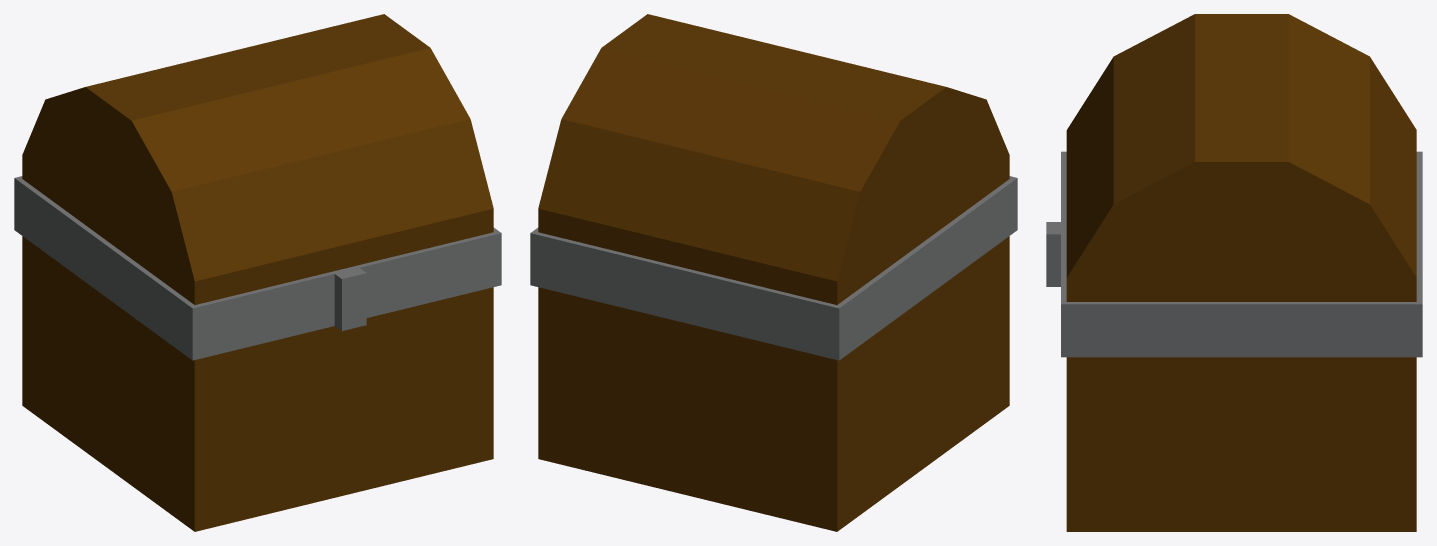
The model's file is Chest.obj.
3 views of the same model, side by side, from view 1: azimuth 30°, elevation 25°; view 2: azimuth 150°, elevation 25°; view 3: azimuth 270°, elevation 25° (orthographic).
Visible parts, largest first — view 1: cuboid, cylinder; view 2: cuboid, cylinder; view 3: cylinder, cuboid.
Boxes of the visible parts, x1,y1,x2,y2 form: cuboid: [14, 176, 501, 531]; cylinder: [22, 14, 493, 304]; cuboid: [530, 176, 1017, 531]; cylinder: [538, 14, 1009, 304]; cylinder: [1066, 14, 1416, 301]; cuboid: [1046, 151, 1422, 531].
Size of the model in its own units: 0.3875 by 0.4375 by 0.4031.
Materials: 1 (1 with a texture image).
